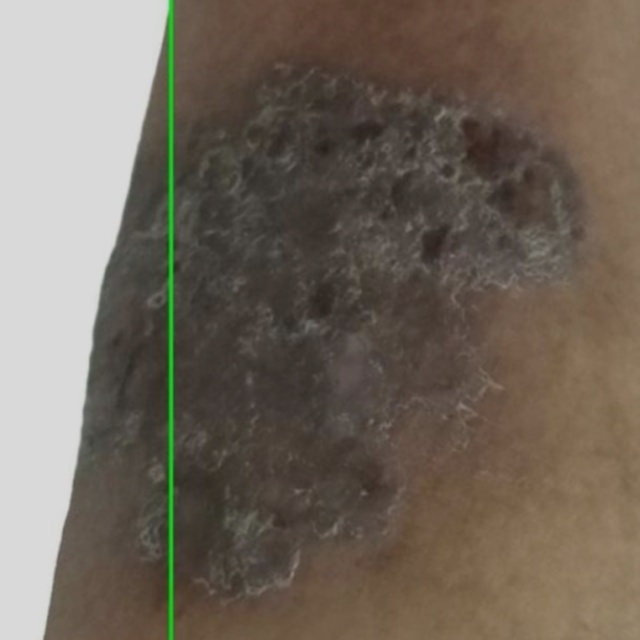Eczema: (0, 0, 171, 639)
